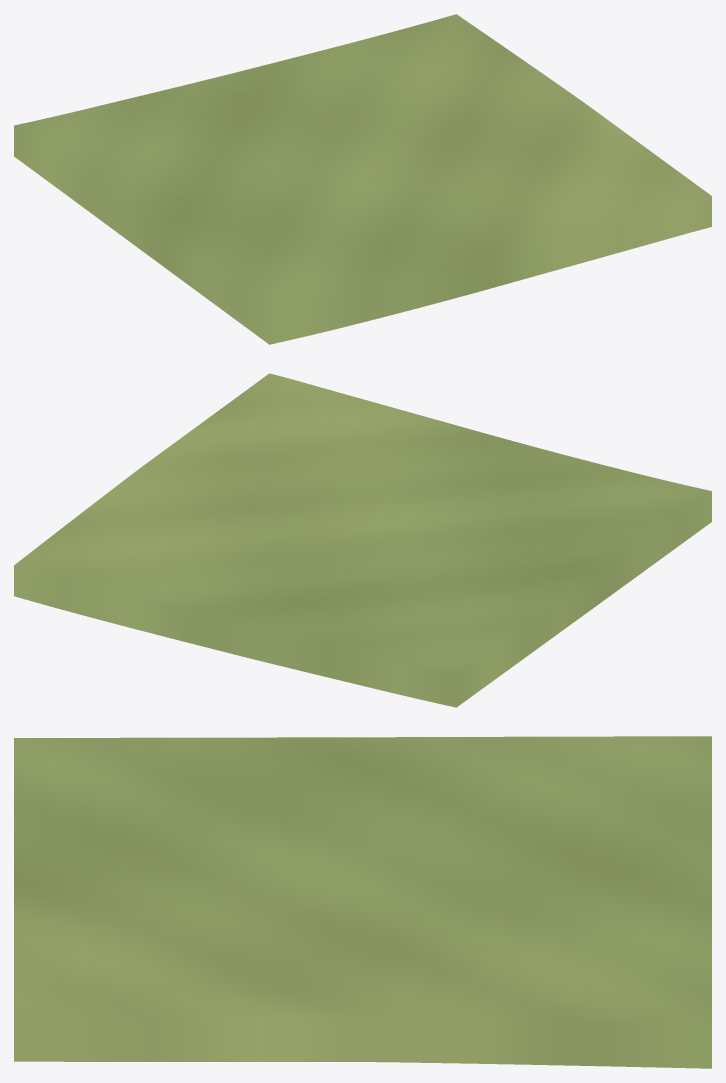
3 views of the same model, one above another, from view 1: azimuth 30°, elevation 25°; view 2: azimuth 150°, elevation 25°; view 3: azimuth 270°, elevation 25° (orthographic). The views are drawn at different scales.
Visible parts, largest first — view 1: terrain; view 2: terrain; view 3: terrain.
Part boxes in pixels (x1,y1,x2,y2): terrain: (14,14,711,344); terrain: (14,373,711,707); terrain: (14,736,711,1068).
Bounding box in the file's own units: 30 × 2.68 × 30.
